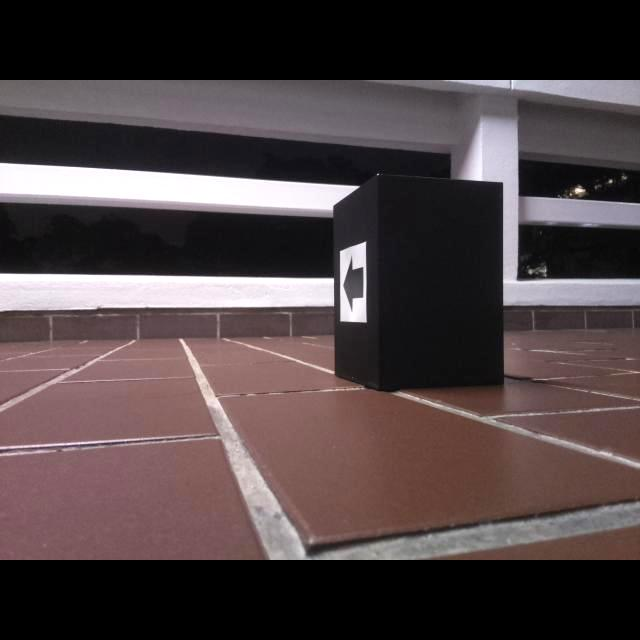LEFT: (343, 253, 363, 314)
